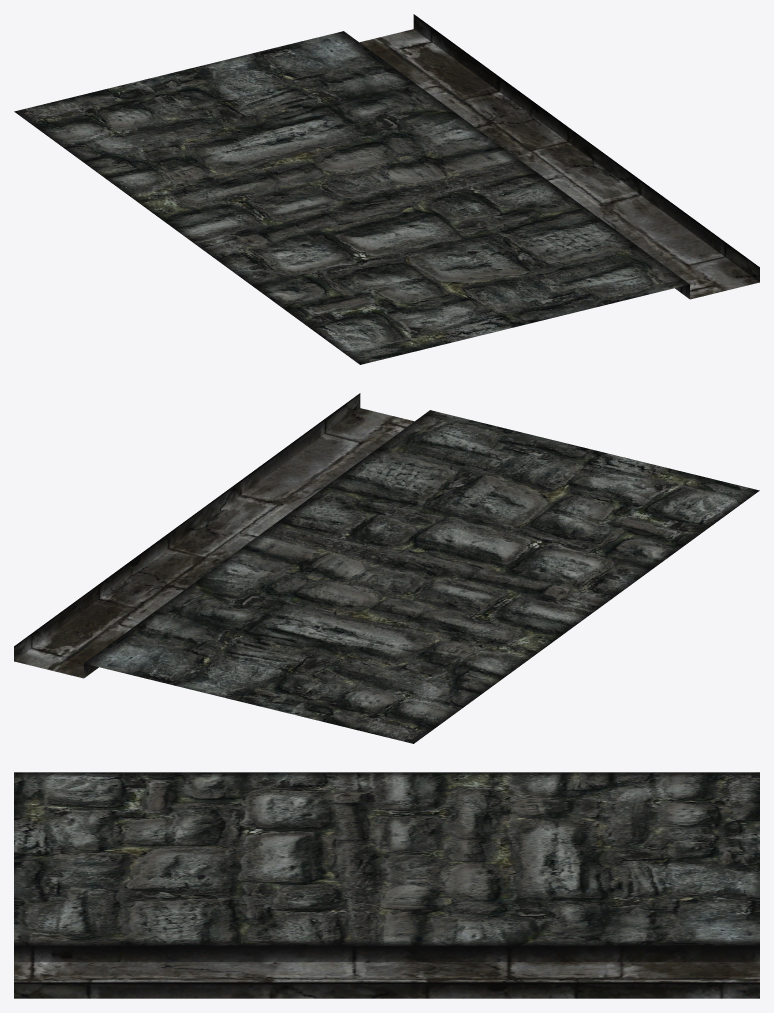
Rendered from corridor.dae.
3 views of the same model, one above another, from view 1: azimuth 30°, elevation 25°; view 2: azimuth 150°, elevation 25°; view 3: azimuth 270°, elevation 25° (orthographic). The views are drawn at different scales.
Parts seen in each view (by area): view 1: polySurface131; view 2: polySurface131; view 3: polySurface131.
Boxes of the visible parts, x1,y1,x2,y2 form: polySurface131: (14,14,759,364); polySurface131: (14,393,759,743); polySurface131: (14,772,759,998).
Size of the model in its own units: 2 by 0.0719 by 3.
